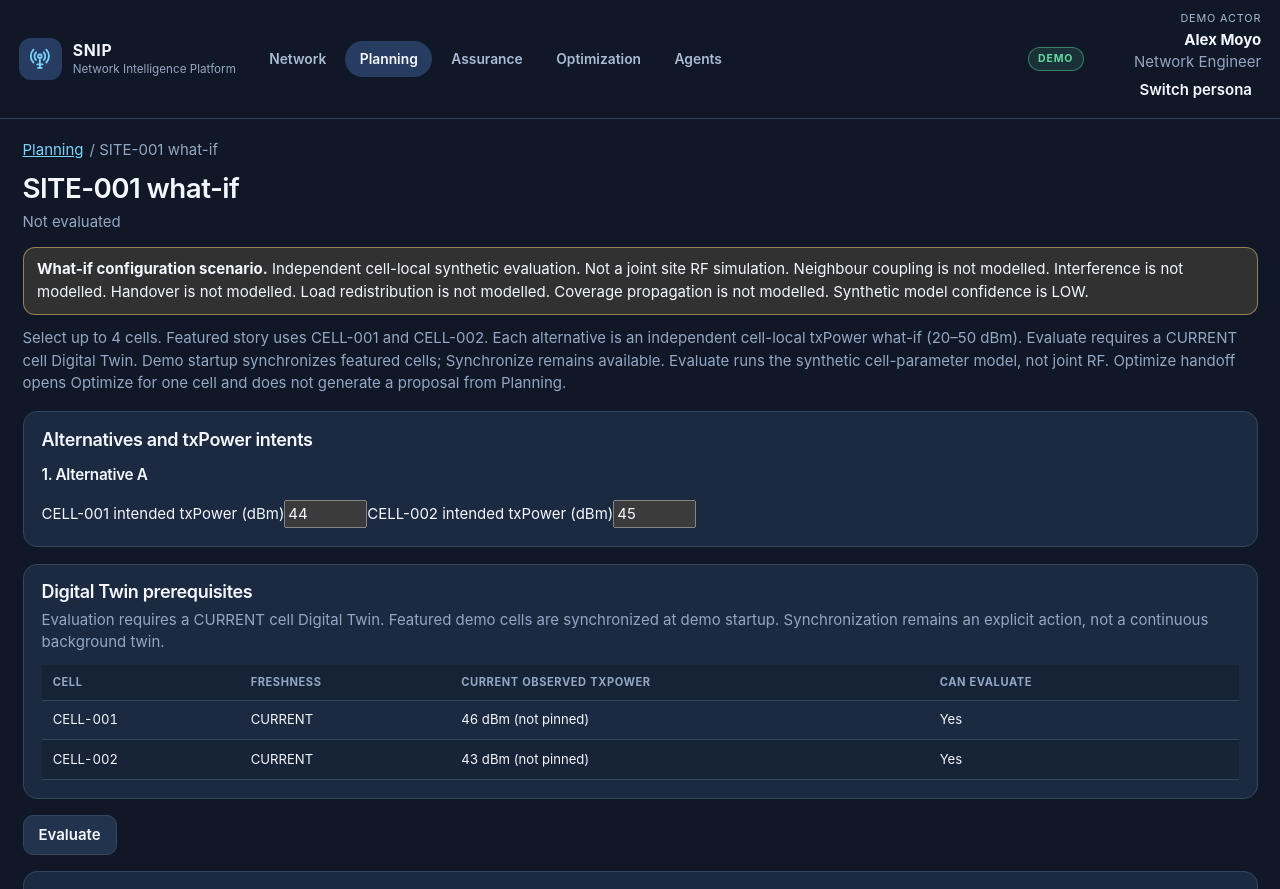
Increment 7 what-if configuration scenario workspace › evaluates explicitly and shows synthetic LOW comparison and one-cell optimize handoff
The image size is (1280, 889).
Click the button "Evaluate" at (70, 835), box [22,815,117,855]
(page scrolled)
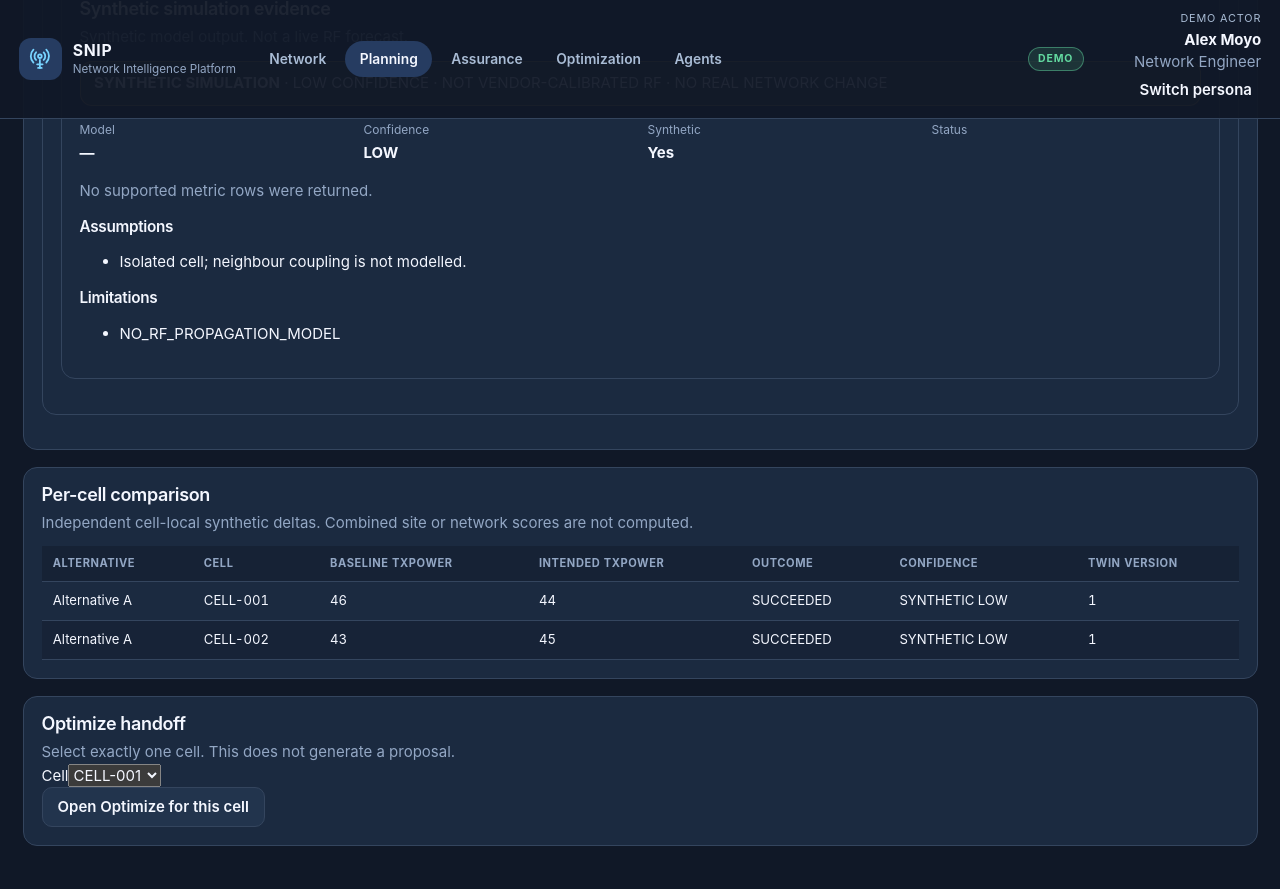
Expected: the heading "Per-cell comparison" is shown, [42,484,210,505]
